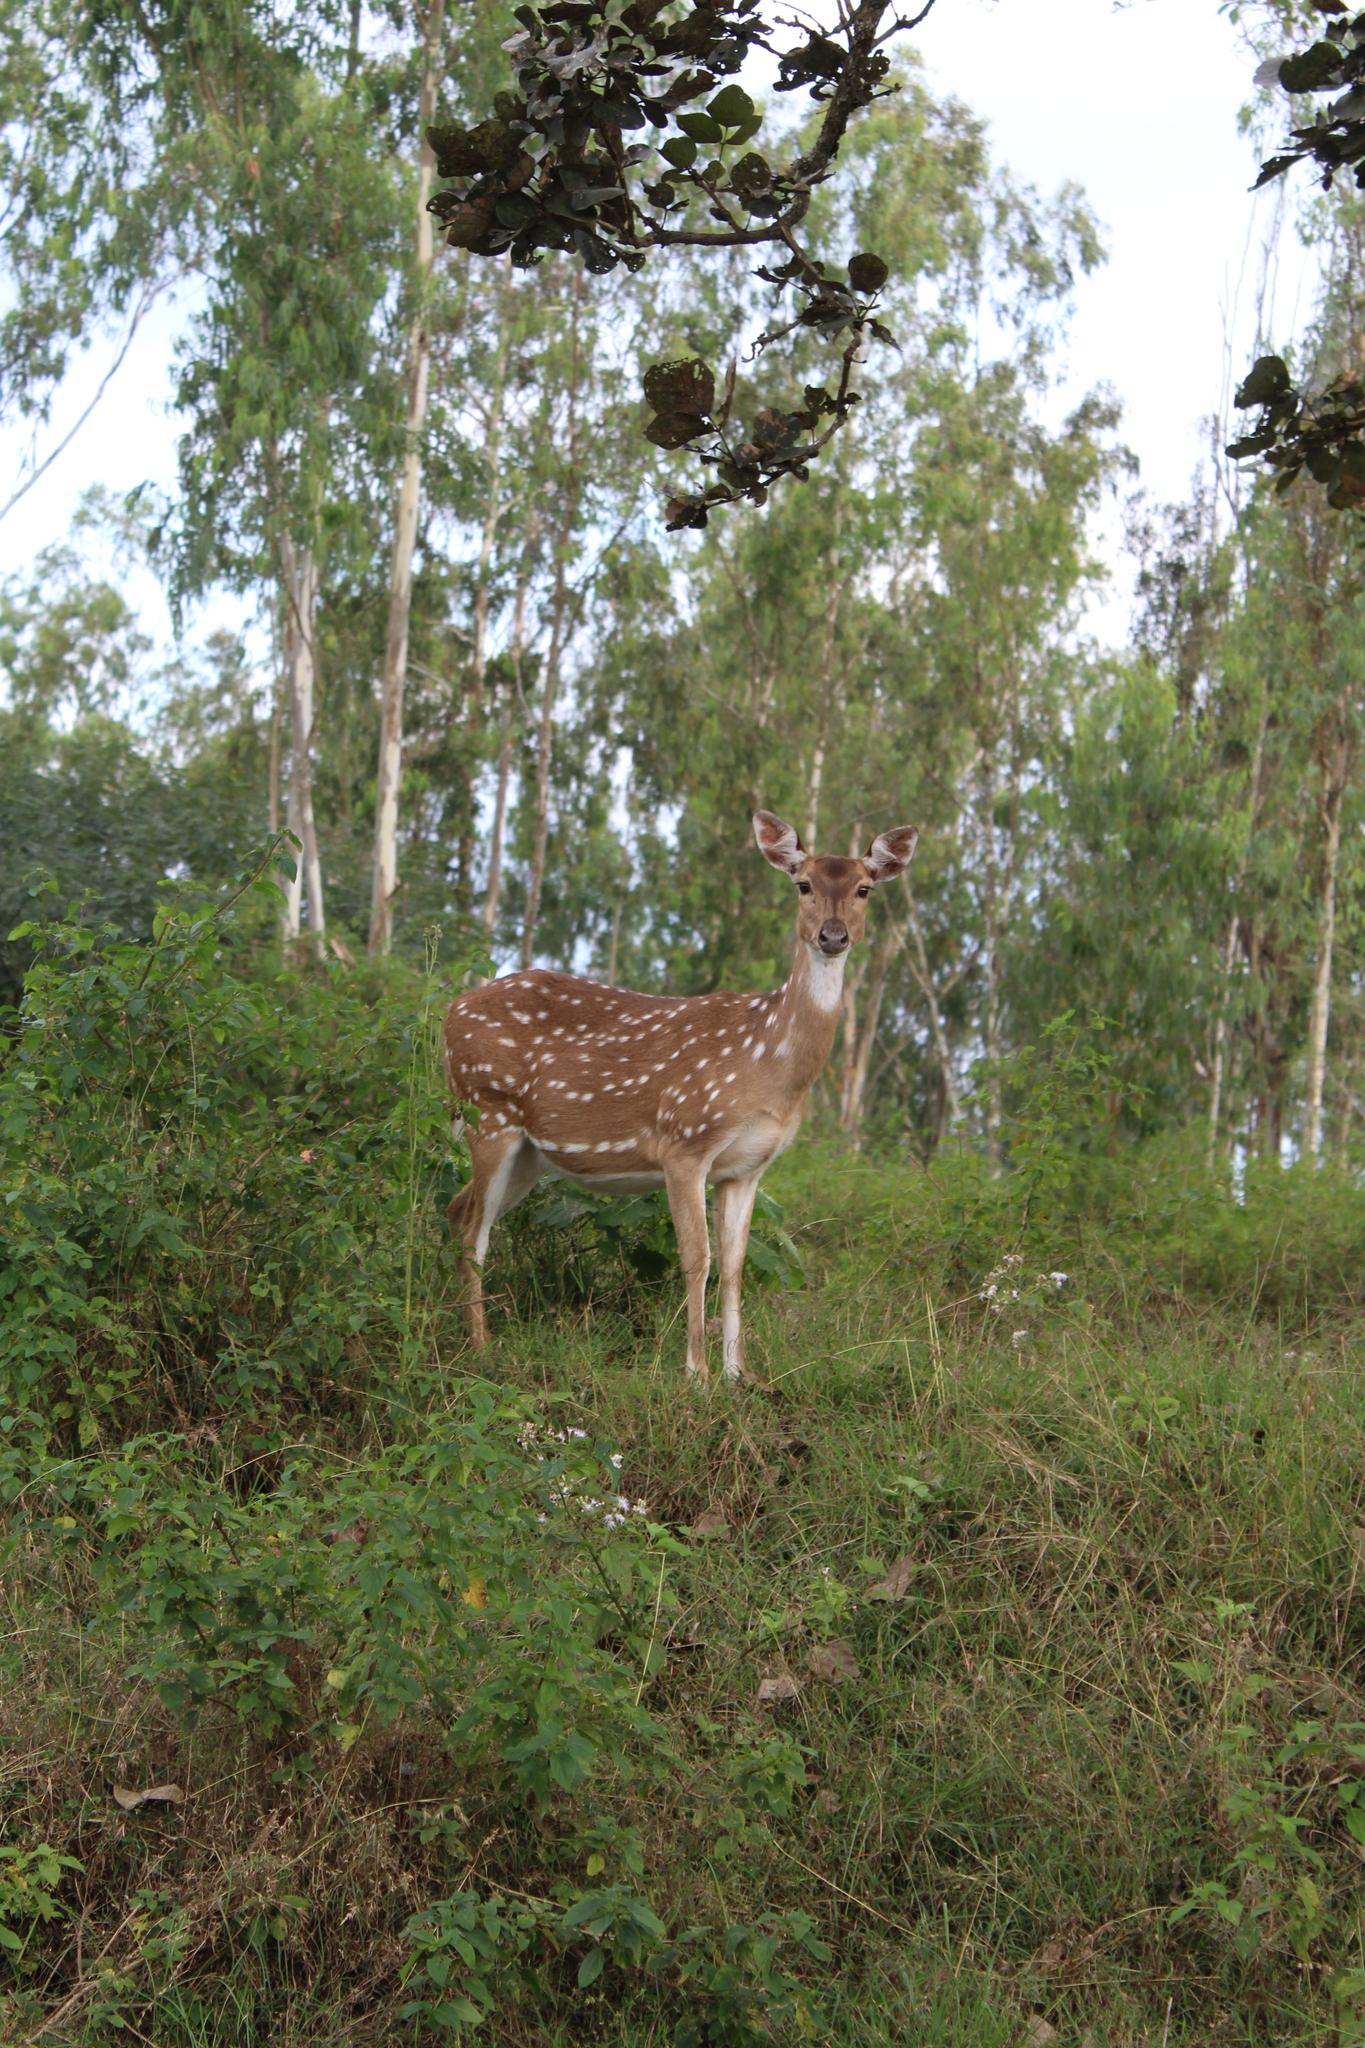Deer: (443, 810, 916, 1380)
